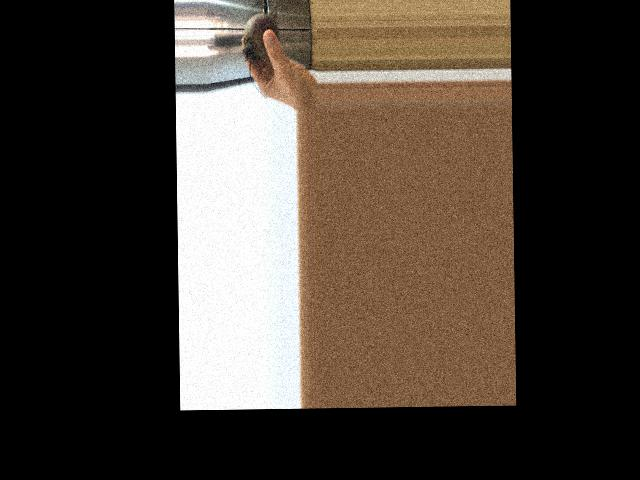beet: (241, 4, 279, 98)
